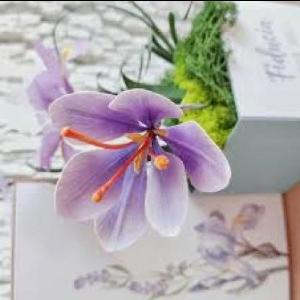Saffron: (54, 87, 232, 251)
